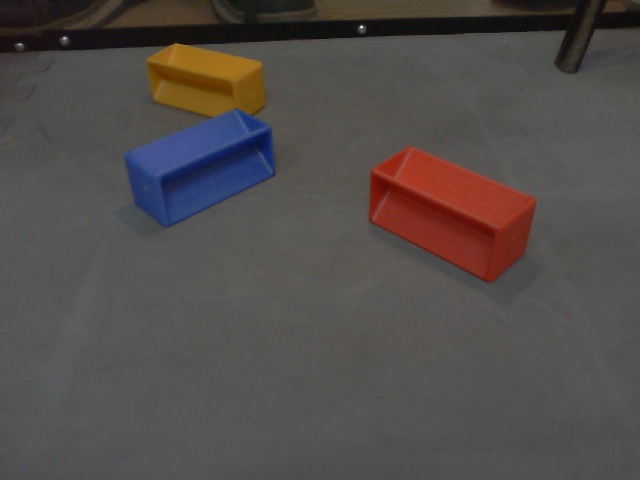BlueSample: (121, 108, 278, 229)
RedSample: (364, 145, 536, 283)
YellowSample: (142, 40, 265, 118)
